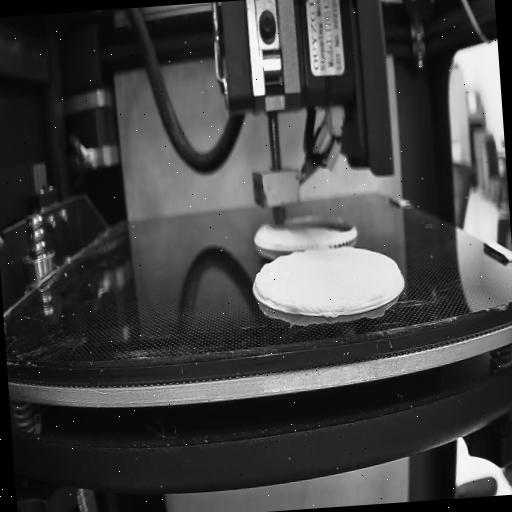over_extrusion: (252, 257, 277, 302)
